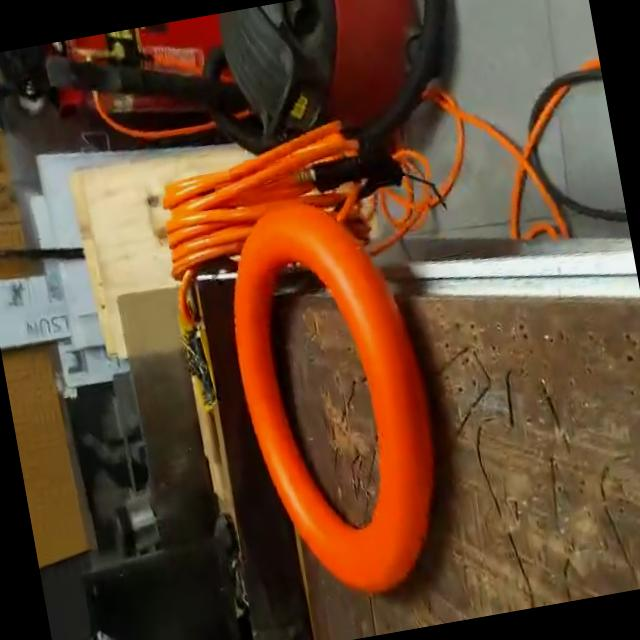note: (210, 188, 460, 610)
